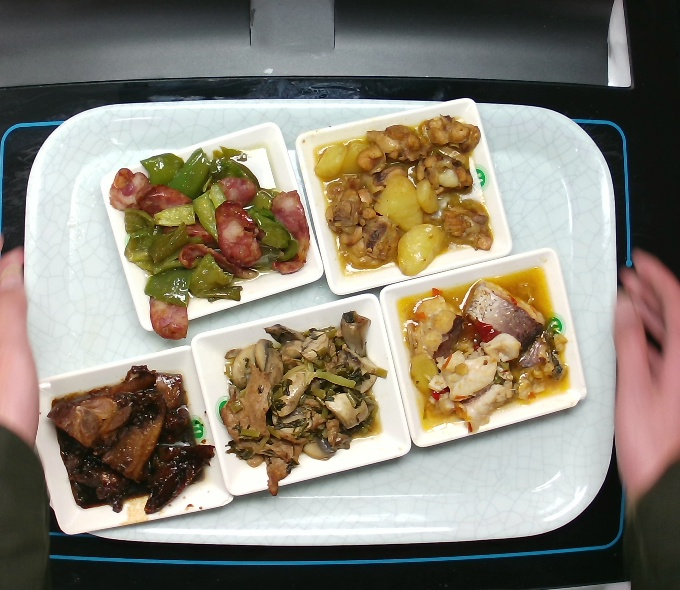wcq-JiangZhiYa: (45, 364, 217, 516)
wcq-MoGuRouPian: (215, 303, 387, 498)
wcq-QingJiaoXiangChang: (106, 142, 311, 343)
wcq-SuanCaiYu: (396, 263, 572, 430)
wcq-TuDouJiKuai: (310, 113, 496, 275)
